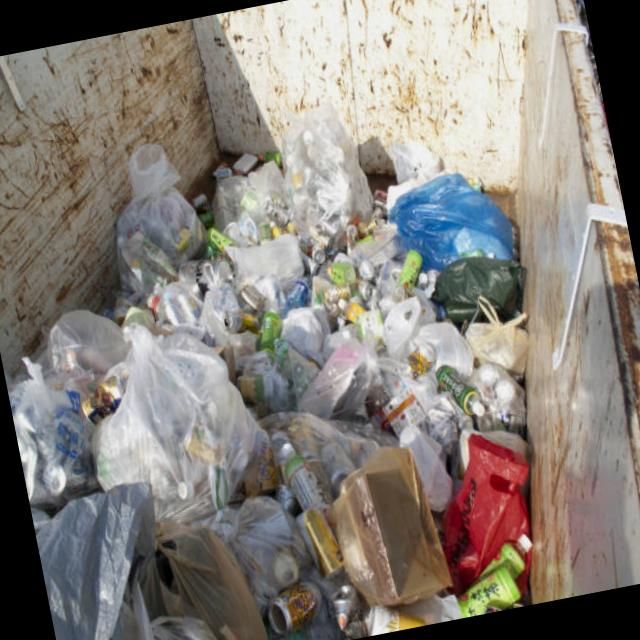garbage: (0, 56, 594, 640)
